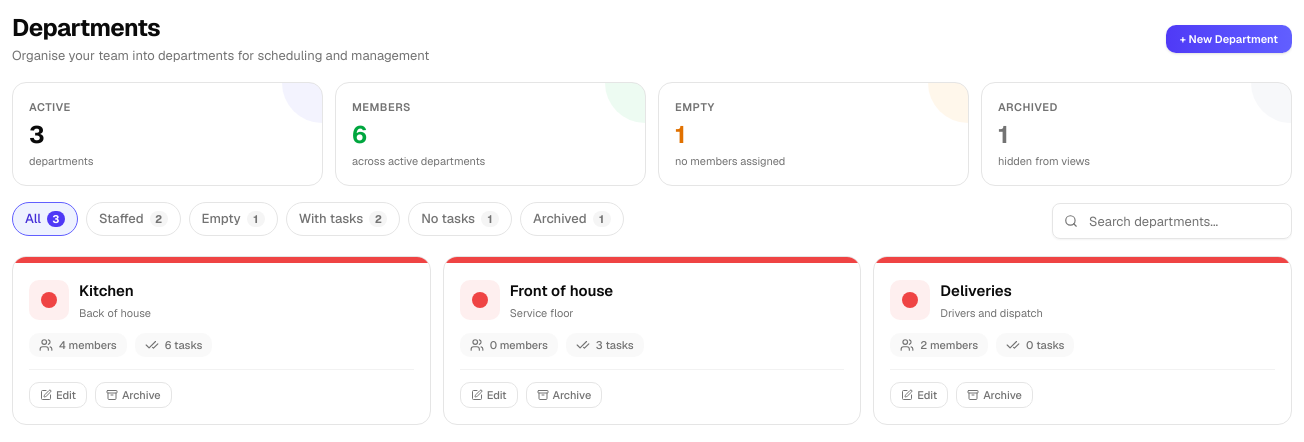
Test: filtering › No tasks is a different question from Empty
The image size is (1304, 442).
Expected: the heading "Kitchen" is shown, [79,281,134,300]
Click the button "No tasks 1". click: (460, 219)
box: [408,202,512,236]
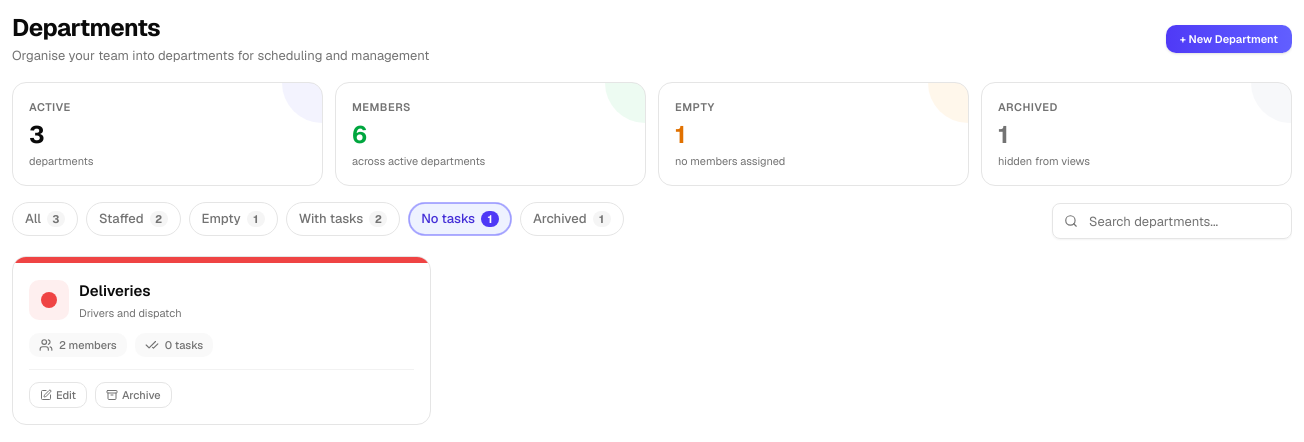
Expected: the heading "Deliveries" is shown, [79,281,150,300]
Now the heading "Front of house" is gone
